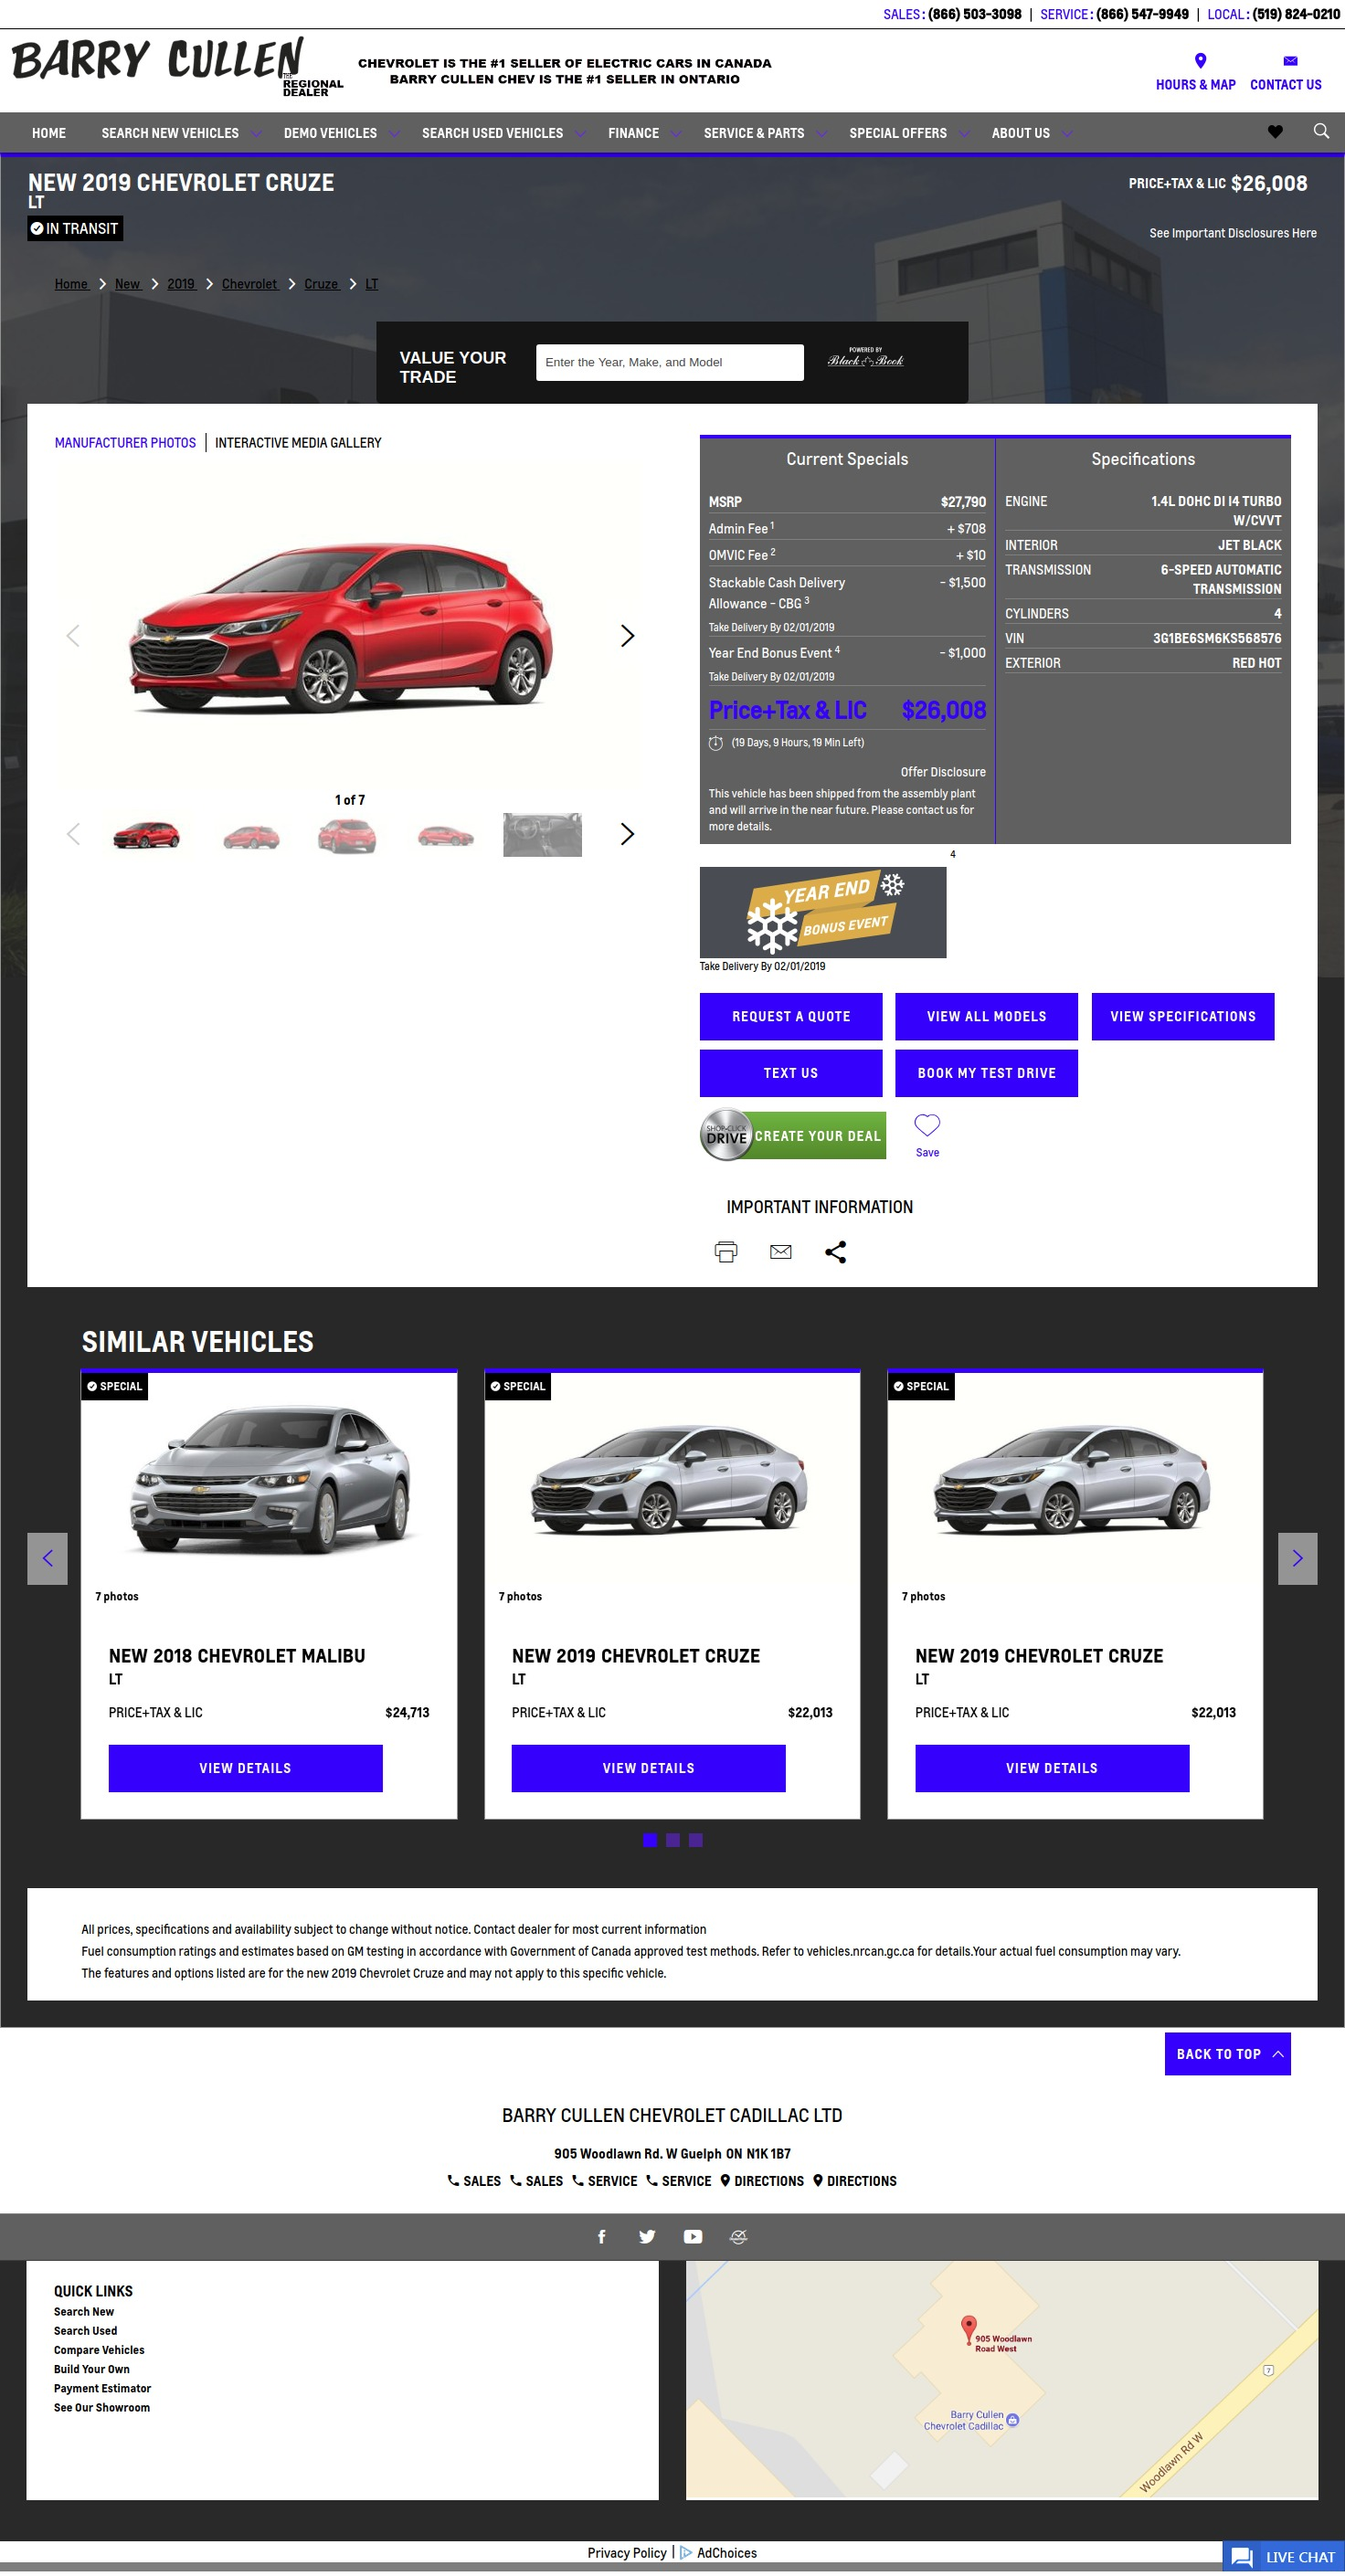car: (615, 819, 641, 852)
